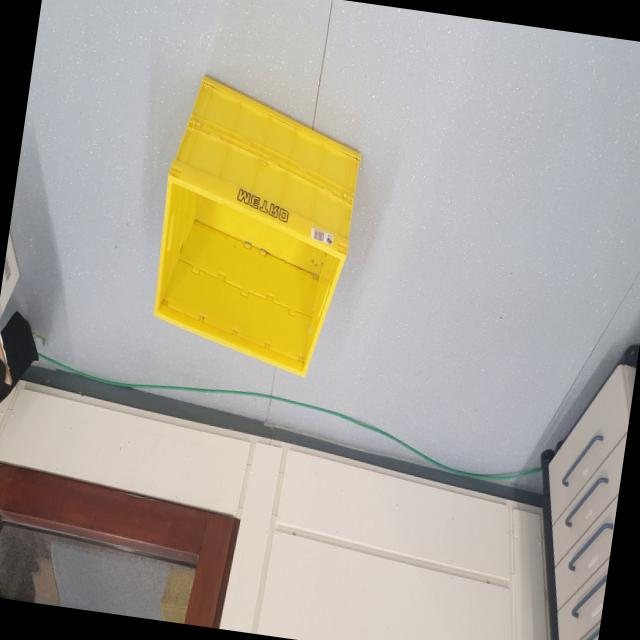box: (126, 59, 381, 392)
